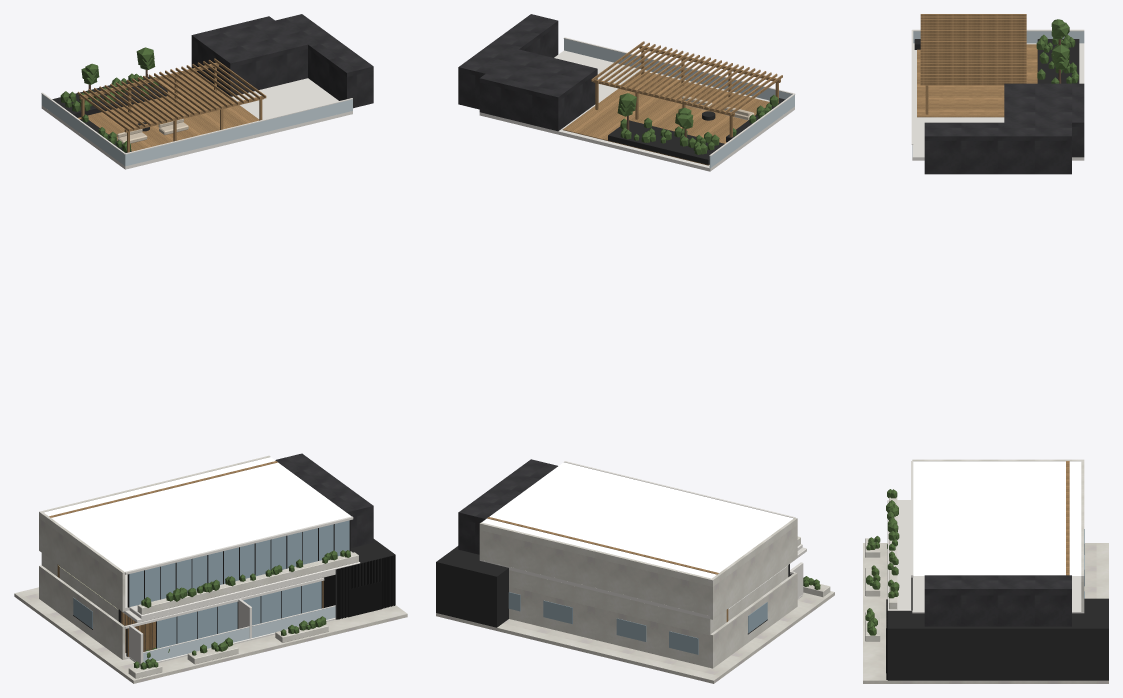
File: florianopolis.glb
3 renders of one model, left to right at view 1: azimuth 30°, elevation 25°; view 2: azimuth 150°, elevation 25°; view 3: azimuth 270°, elevation 25°, orthographic. The views are drawn at different scales.
Parts seen in each view (by area): view 1: comum_interior_quente, rooftop_grafite, comum_vidro, comum_concreto_claro, rooftop_madeira, terreo_piso_pedra, pav_tipo_vidro, rooftop_branco, rooftop_madeira_piso, rooftop_vidro_guarda, terreo_preto, comum_grafite (+14 smaller); view 2: comum_interior_quente, comum_concreto_claro, rooftop_grafite, pav_tipo_concreto_claro, rooftop_madeira, terreo_piso_pedra, rooftop_madeira_piso, terreo_grafite_liso, terreo_concreto_claro, rooftop_branco, comum_grafite, rooftop_vidro_guarda (+5 smaller); view 3: comum_interior_quente, terreo_grafite_liso, rooftop_grafite, rooftop_madeira, comum_grafite, terreo_piso_pedra, rooftop_madeira_piso, comum_branco, rooftop_branco, rooftop_verde, comum_concreto_claro, comum_verde (+5 smaller).
Boxes of the visible parts, <box> form: comum_interior_quente: <box>44,457,351,571</box>; rooftop_grafite: <box>191,14,373,108</box>; comum_vidro: <box>129,520,349,606</box>; comum_concreto_claro: <box>39,455,358,614</box>; rooftop_madeira: <box>77,58,266,152</box>; terreo_piso_pedra: <box>14,587,407,683</box>; pav_tipo_vidro: <box>73,581,321,648</box>; rooftop_branco: <box>41,78,352,169</box>; rooftop_madeira_piso: <box>78,72,259,151</box>; rooftop_vidro_guarda: <box>41,94,352,166</box>; terreo_preto: <box>337,555,394,619</box>; comum_grafite: <box>275,453,373,547</box>; comum_interior_quente: <box>482,462,793,578</box>; comum_concreto_claro: <box>479,518,800,619</box>; rooftop_grafite: <box>458,14,597,131</box>; pav_tipo_concreto_claro: <box>509,572,797,668</box>; rooftop_madeira: <box>591,41,782,137</box>; terreo_piso_pedra: <box>436,591,834,683</box>; rooftop_madeira_piso: <box>562,71,769,165</box>; terreo_grafite_liso: <box>436,546,789,627</box>; terreo_concreto_claro: <box>509,565,830,634</box>; rooftop_branco: <box>479,37,795,171</box>; comum_grafite: <box>458,459,557,554</box>; rooftop_vidro_guarda: <box>564,38,794,168</box>; comum_interior_quente: <box>913,461,1083,575</box>; terreo_grafite_liso: <box>887,598,1108,680</box>; rooftop_grafite: <box>924,83,1084,174</box>; rooftop_madeira: <box>920,14,1026,114</box>; comum_grafite: <box>924,575,1071,626</box>; terreo_piso_pedra: <box>863,543,1108,683</box>; rooftop_madeira_piso: <box>917,44,1037,117</box>; comum_branco: <box>887,461,1084,613</box>; rooftop_branco: <box>911,29,1084,160</box>; rooftop_verde: <box>1036,19,1078,83</box>; comum_concreto_claro: <box>889,459,1084,611</box>; comum_verde: <box>886,489,899,598</box>.
Bounding box in the file's own units: 26.5 × 49.87 × 20.
16 materials, 5 textured.
